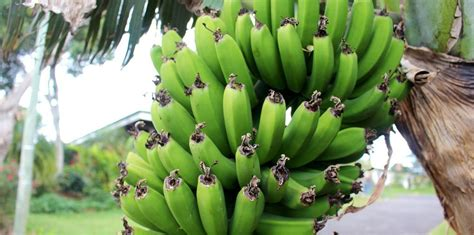banana: (186, 130, 242, 189), (188, 80, 228, 148), (160, 174, 203, 235), (273, 18, 306, 94), (339, 75, 394, 120), (257, 88, 284, 167), (334, 40, 358, 110)
